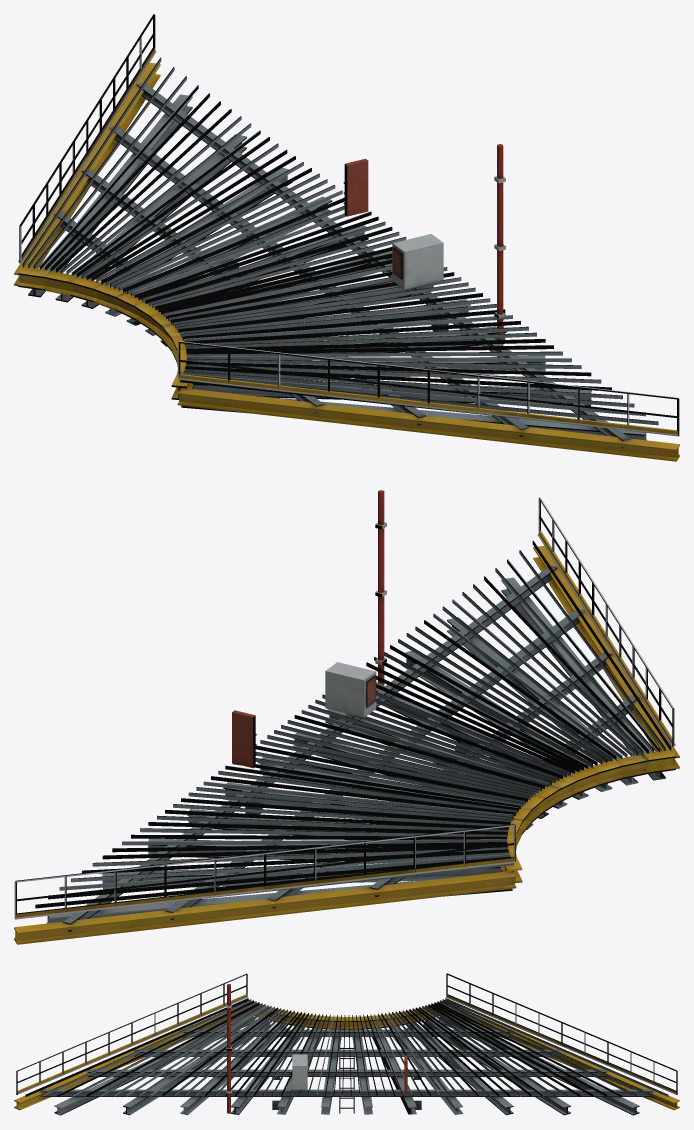
The model's file is wrap_deck_v4.glb.
The picture shows the model from 3 angles, top to bottom: view 1: azimuth 30°, elevation 25°; view 2: azimuth 150°, elevation 25°; view 3: azimuth 270°, elevation 25°; orthographic projection. The views are drawn at different scales.
Parts seen in each view (by area): view 1: body, seam_cover_start; view 2: body, seam_cover_end; view 3: body, seam_cover_end, seam_cover_start.
Part boxes in pixels (x1,y1,x2,y2): body: (14, 14, 679, 461); seam_cover_start: (178, 378, 677, 436); body: (14, 490, 679, 944); seam_cover_end: (16, 861, 515, 919); body: (14, 973, 679, 1115); seam_cover_end: (446, 996, 677, 1094); seam_cover_start: (16, 996, 247, 1094).
Size of the model in its own units: 10.04 by 6.12 by 28.25.
Materials: 3 (3 with a texture image).
